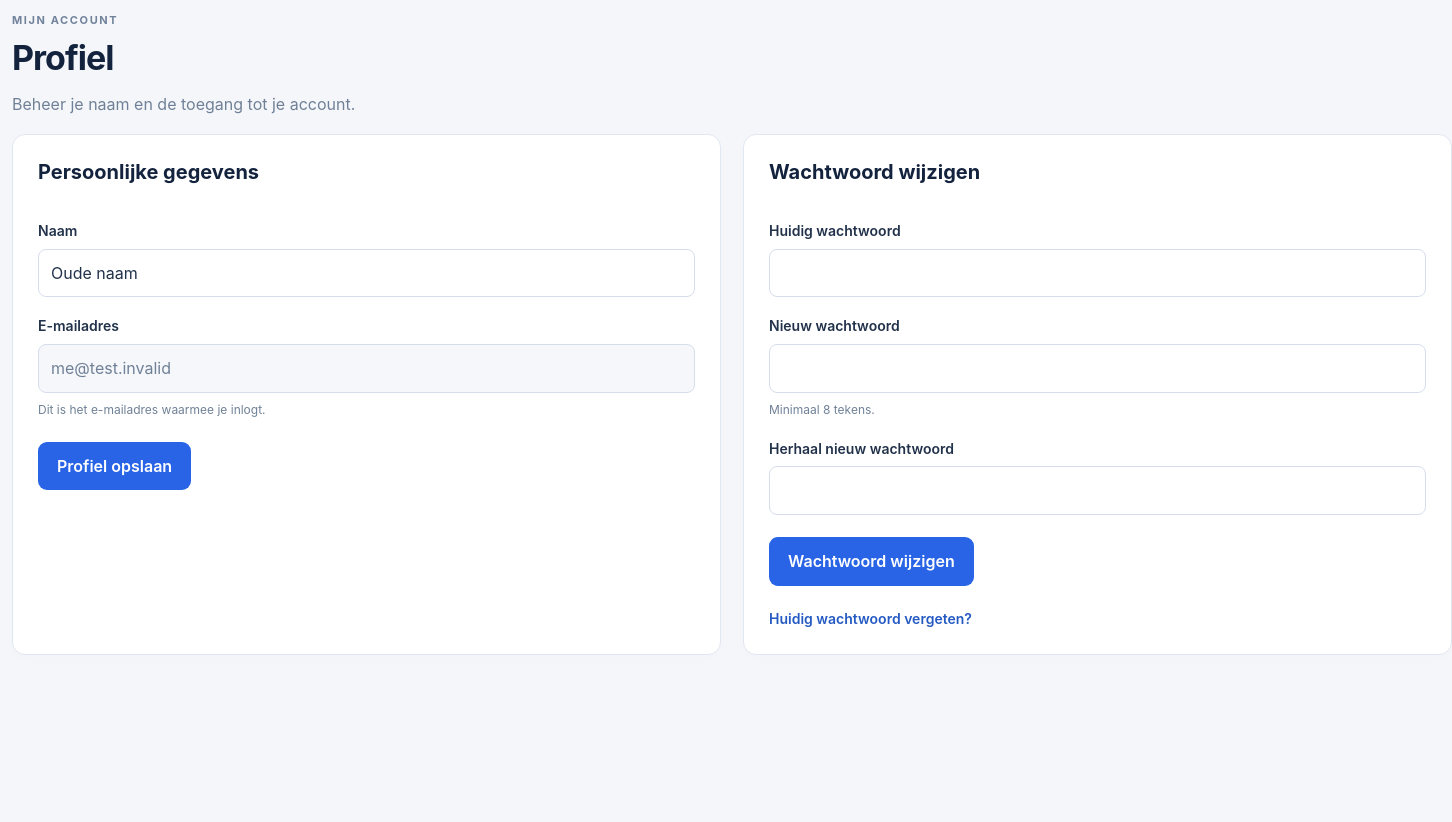
Scenario: saves the user's name to their own profile
The image size is (1452, 822).
Step 1. Replace the text in the field labelled "Naam" with "Nieuwe naam" → (366, 273), box [38,249,695,297]
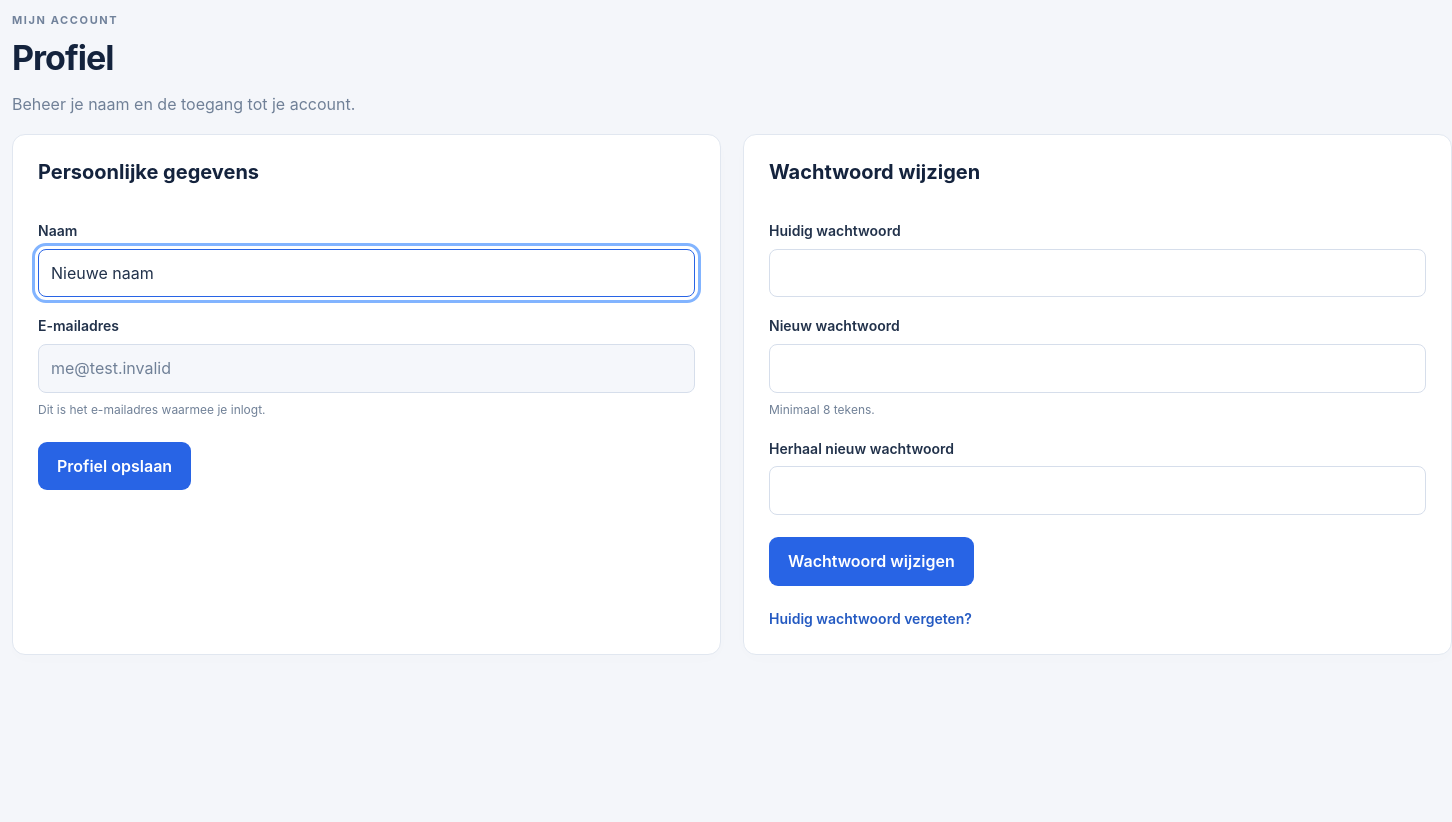
Step 2. Click the button "Profiel opslaan" → (115, 466), box [38,442,191,490]
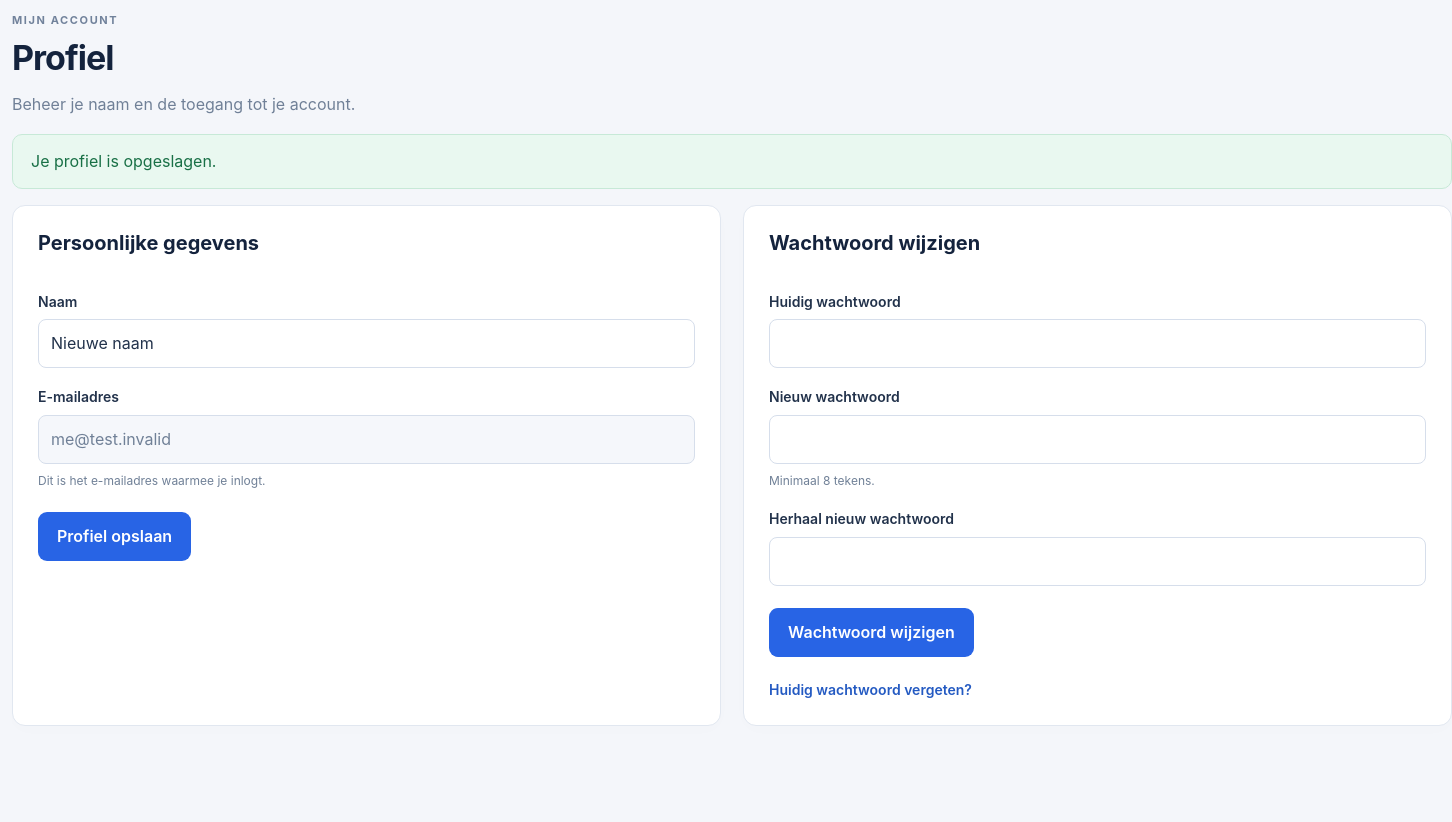
Expected: the text "Je profiel is opgeslagen." is shown, [12,134,1451,189]
